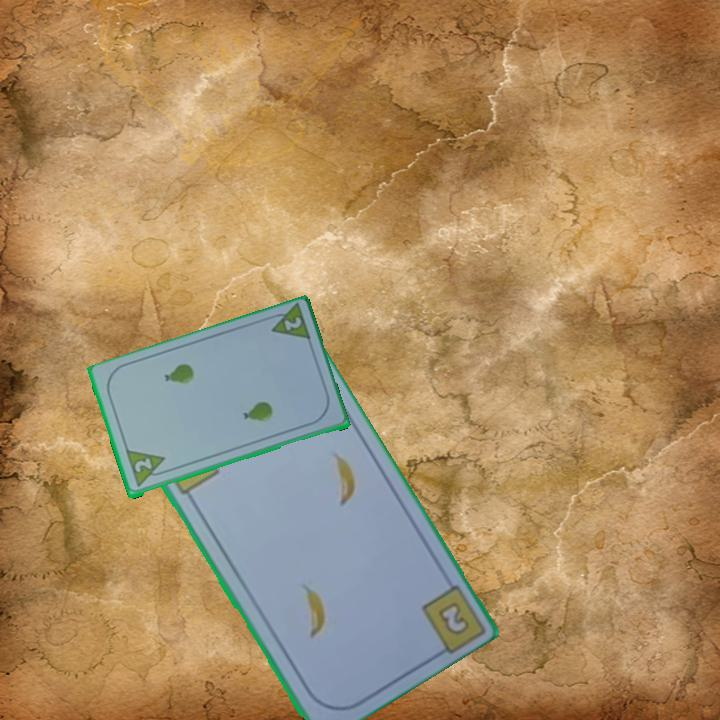2b: (437, 601, 469, 635)
2p: (131, 455, 155, 476), (280, 313, 304, 334)
